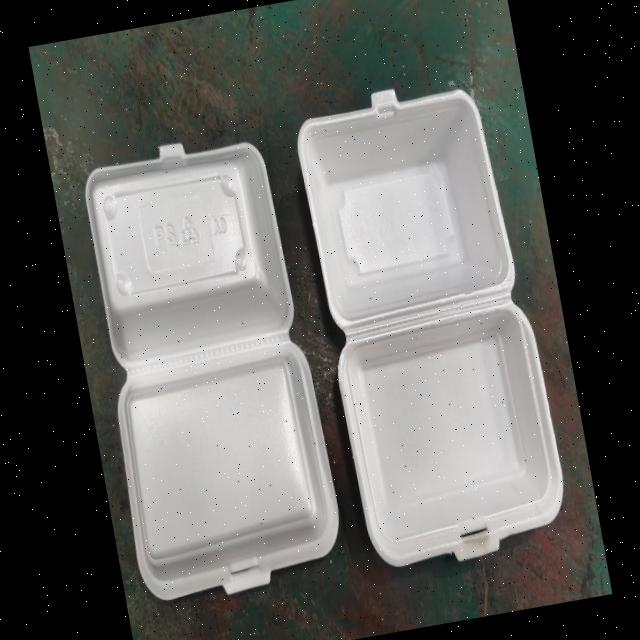styrofoam: (287, 68, 574, 578), (66, 124, 350, 610)
